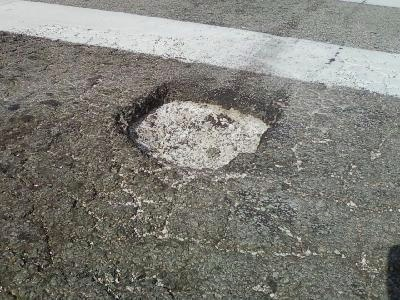pothole: (112, 79, 281, 177)
